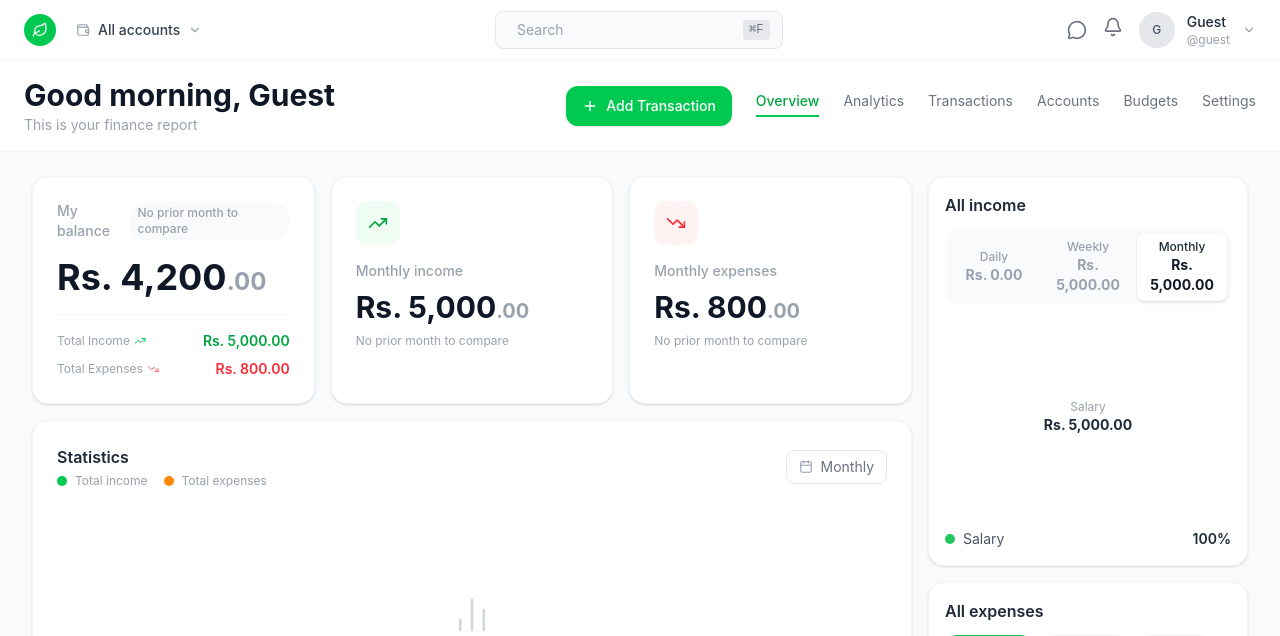
Scenario: routing › navigates between tabs through real links, not tab state
Click the link "Analytics": x=874, y=104 x1=843 y1=91 x2=904 y2=117
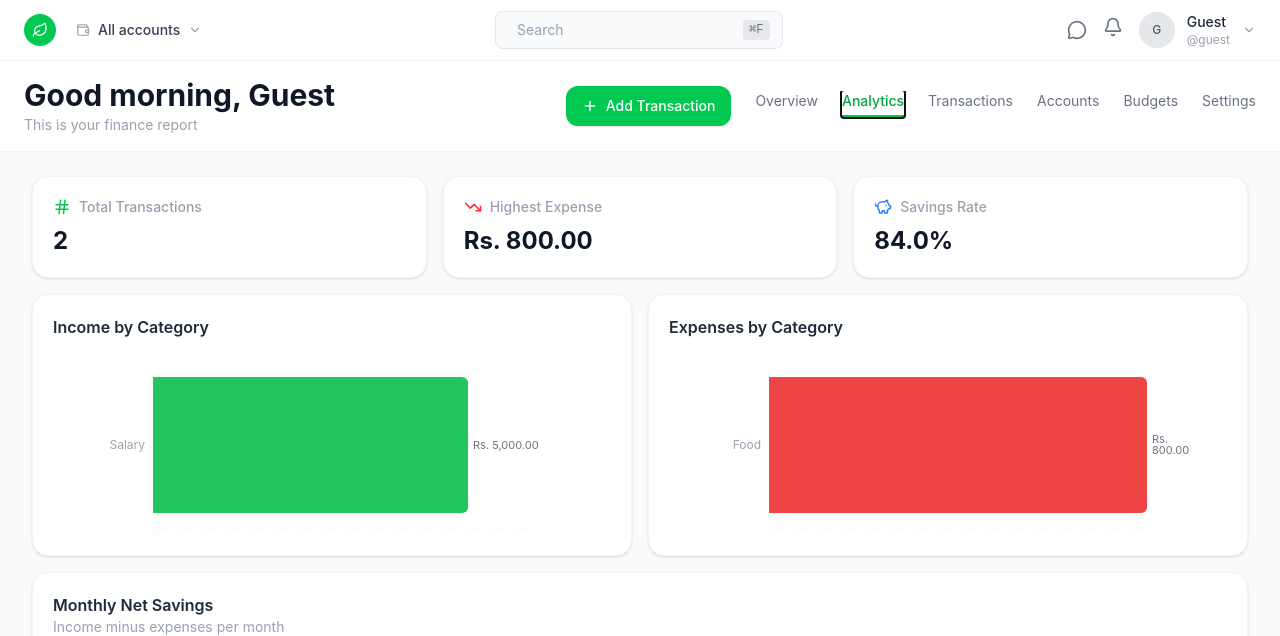
Expected: the heading "Monthly Net Savings" is shown, x1=53 y1=595 x2=213 y2=615
